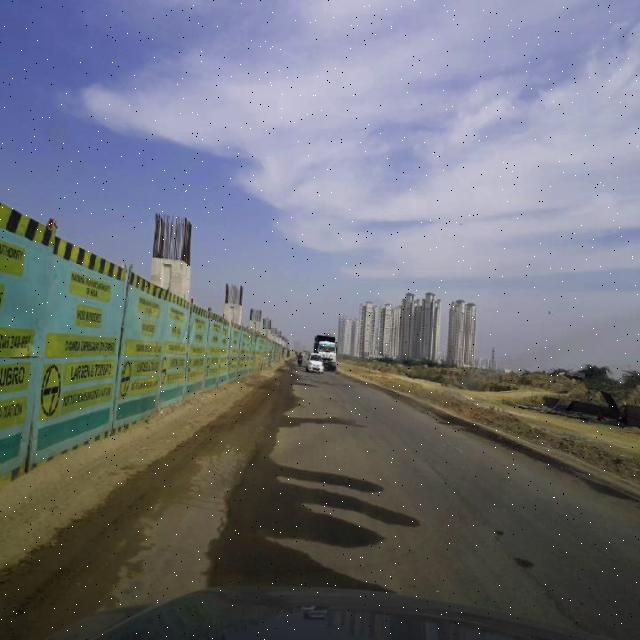D00: (421, 446, 569, 619), (209, 380, 287, 568)
D20: (162, 431, 262, 515)
